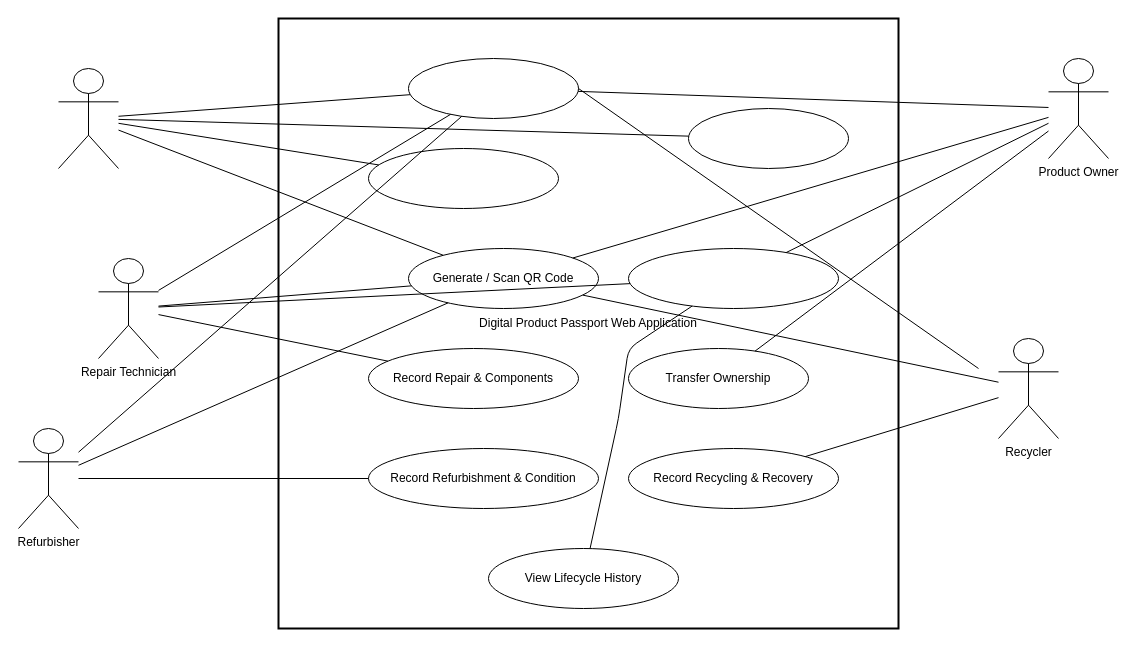
The diagram is 1135 pixels wide and 646 high, and some of its shapes have lost their labels. Each missing label, with the box of its shape:
Admin: (58, 68, 118, 168)
Login / Authentication: (408, 58, 578, 118)
Manage Users & Roles: (368, 148, 558, 208)
Register Product: (688, 108, 848, 168)
View Digital Product Passport: (628, 248, 838, 308)
